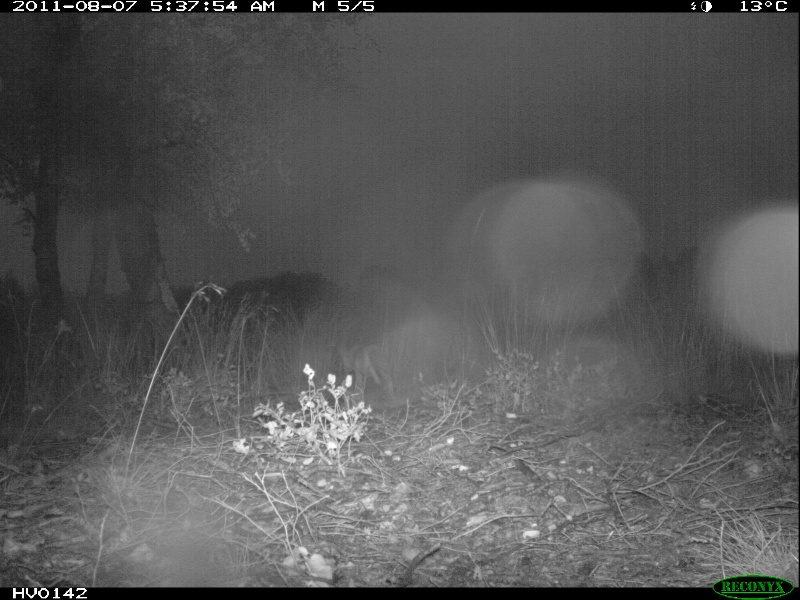fox: (335, 340, 390, 408)
